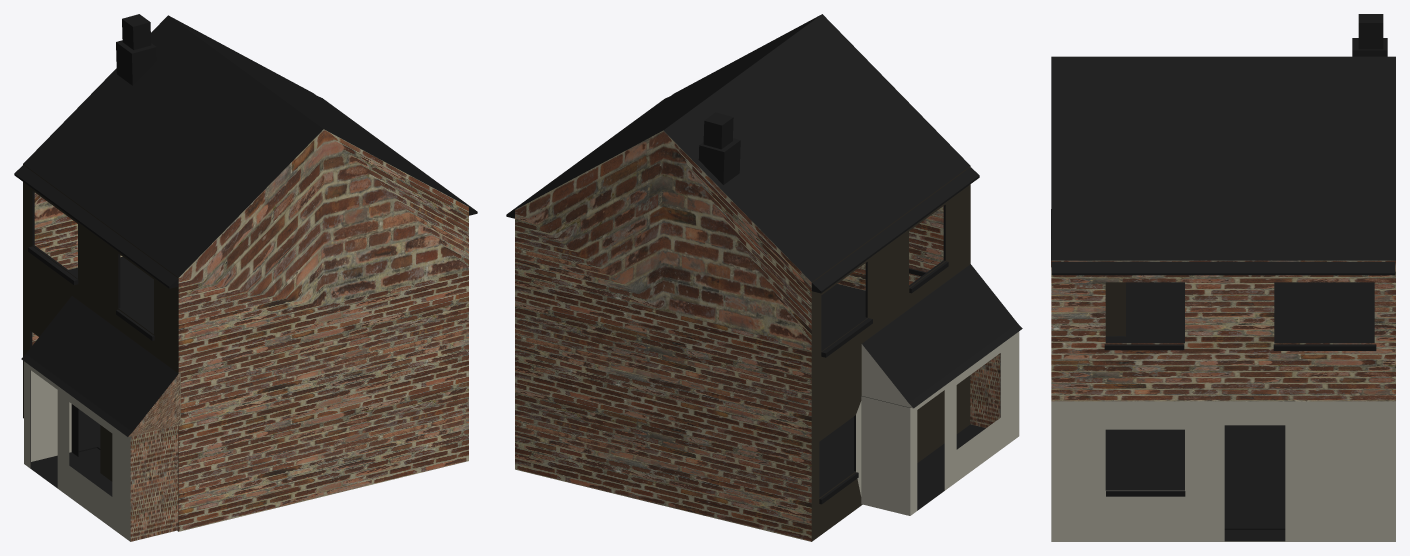
File: housev2.glb
3 views of the same model, side by side, from view 1: azimuth 30°, elevation 25°; view 2: azimuth 150°, elevation 25°; view 3: azimuth 270°, elevation 25° (orthographic). The views are drawn at different scales.
Parts seen in each view (by area): view 1: Cube.001; view 2: Cube.001; view 3: Cube.001.
Boxes of the visible parts, box(x1,y1,x2,y2) form: Cube.001: box(14, 14, 477, 541); Cube.001: box(506, 14, 1022, 541); Cube.001: box(1051, 14, 1395, 541).
Size of the model in its own units: 24.05 by 25.02 by 18.52.
4 materials, 1 textured.
